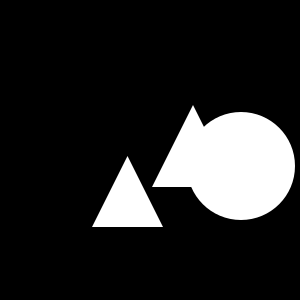rectangle: (187, 112, 295, 220)
triangle: (152, 105, 234, 187), (92, 156, 163, 227)
